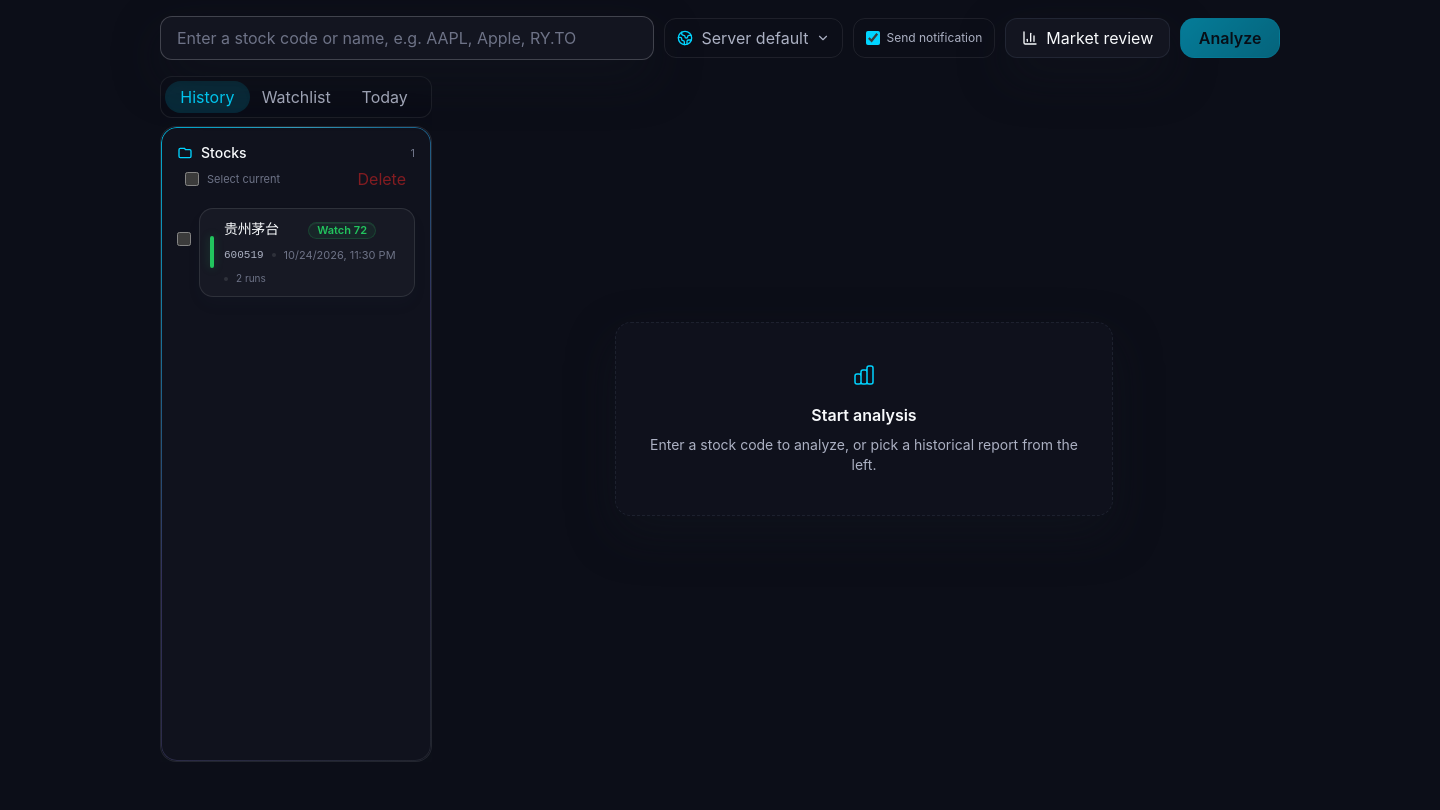
HomePage › treats timezone-less stock-bar timestamps as market-time-zone local time for watchlist pending state
Click the button "Watchlist": (296, 97) x1=254 y1=81 x2=338 y2=113
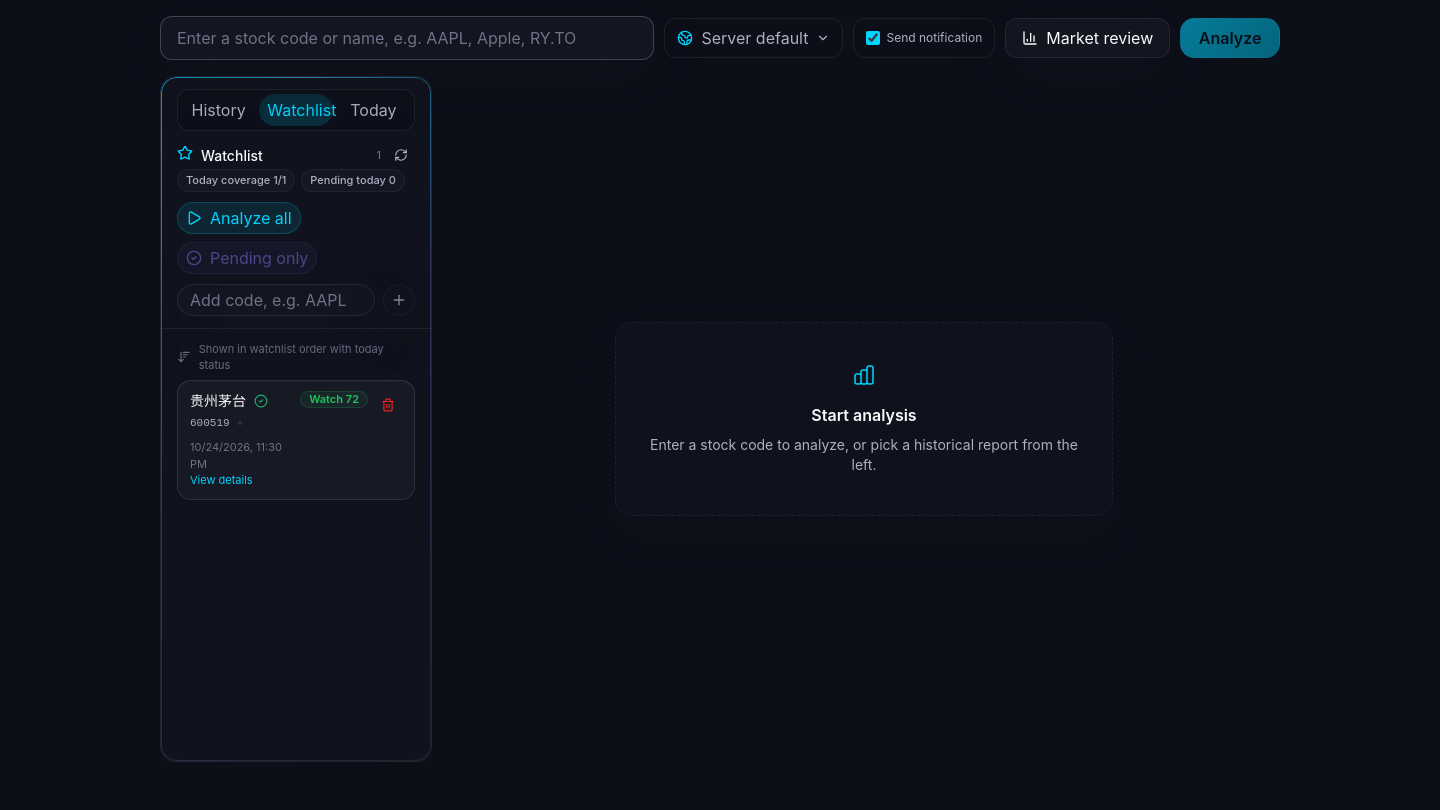
Expected: the icon named "Analyzed today" is shown, x1=254 y1=394 x2=268 y2=408
Expected: the button "Pending only" is disabled, x1=177 y1=242 x2=317 y2=274
